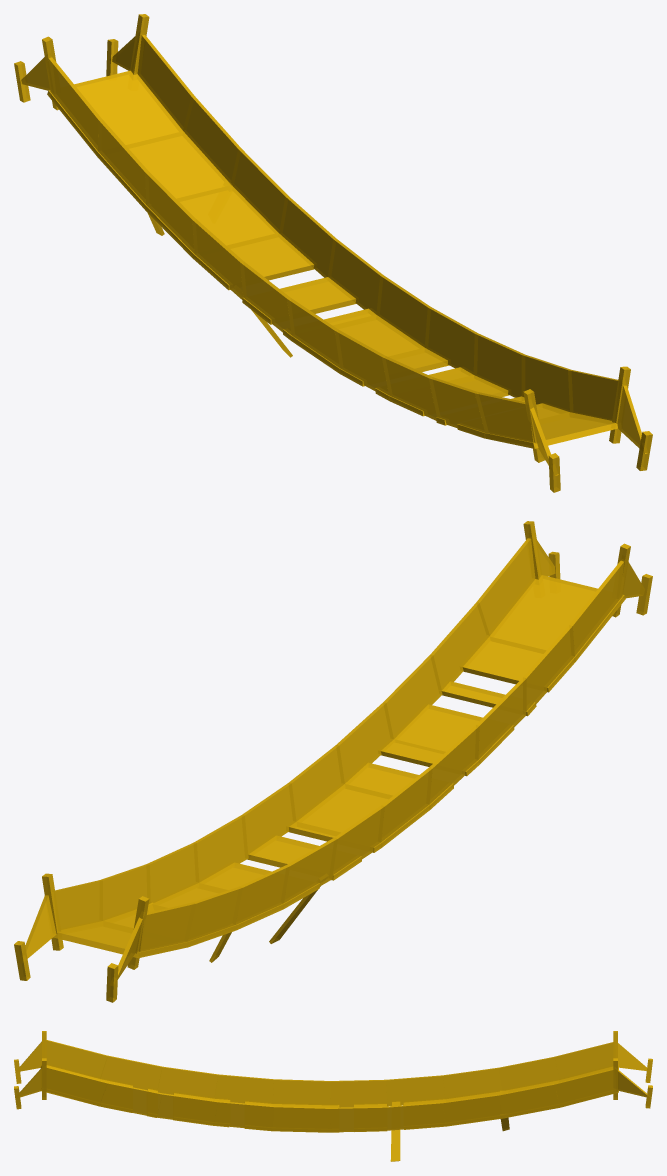
File: SM_Bld_Ropebridge_Damaged_03_Collision.fbx
The picture shows the model from 3 angles, top to bottom: view 1: azimuth 30°, elevation 25°; view 2: azimuth 150°, elevation 25°; view 3: azimuth 270°, elevation 25°; orthographic projection. The views are drawn at different scales.
Parts seen in each view (by area): view 1: SM_Bld_Ropebridge_Damaged_03_Collision; view 2: SM_Bld_Ropebridge_Damaged_03_Collision; view 3: SM_Bld_Ropebridge_Damaged_03_Collision.
Part boxes in pixels (x1,y1,x2,y2): SM_Bld_Ropebridge_Damaged_03_Collision: (14,14,652,492); SM_Bld_Ropebridge_Damaged_03_Collision: (14,521,652,1002); SM_Bld_Ropebridge_Damaged_03_Collision: (14,1031,652,1161).
Bounding box in the file's own units: 258 × 461 × 2326.
